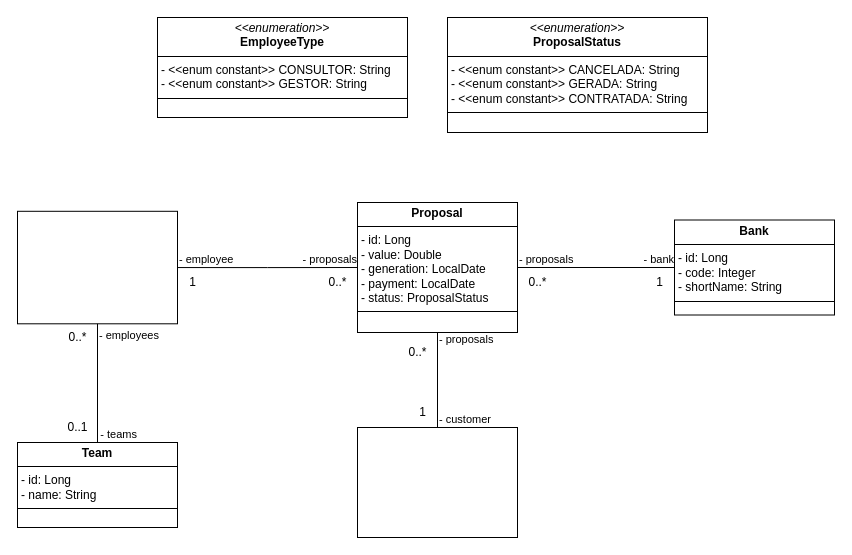
This 852x555 diagram has some shape labels left out. The shapes that lost their labels are listed below. From the top down, each one's box as (x1, y1, x2, y2) in pixels, then its label:
(16, 210, 178, 324): Employee - cpf: String - name: String - password: String - type: EmployeeType
(356, 426, 518, 538): Customer - cpf: String - name: String - phone: String - birthDate: Local Date
